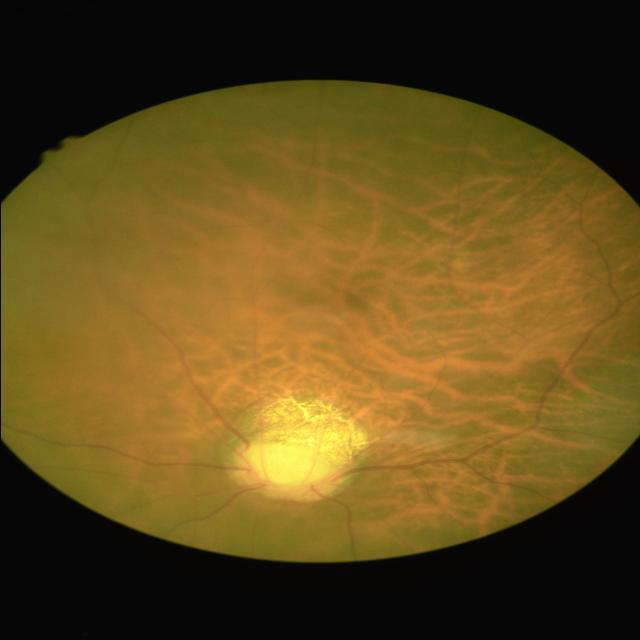cup: (248, 444, 338, 490)
disk: (230, 441, 353, 501)
